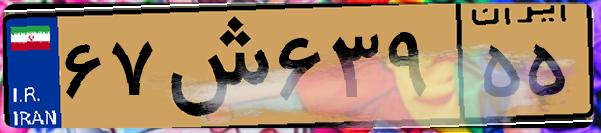3: (330, 28, 385, 110)
5: (475, 38, 525, 113), (525, 38, 570, 115)
6: (270, 28, 330, 110), (57, 26, 110, 100)
7: (110, 28, 158, 98)
9: (385, 28, 445, 110)
ش: (158, 12, 270, 120)
